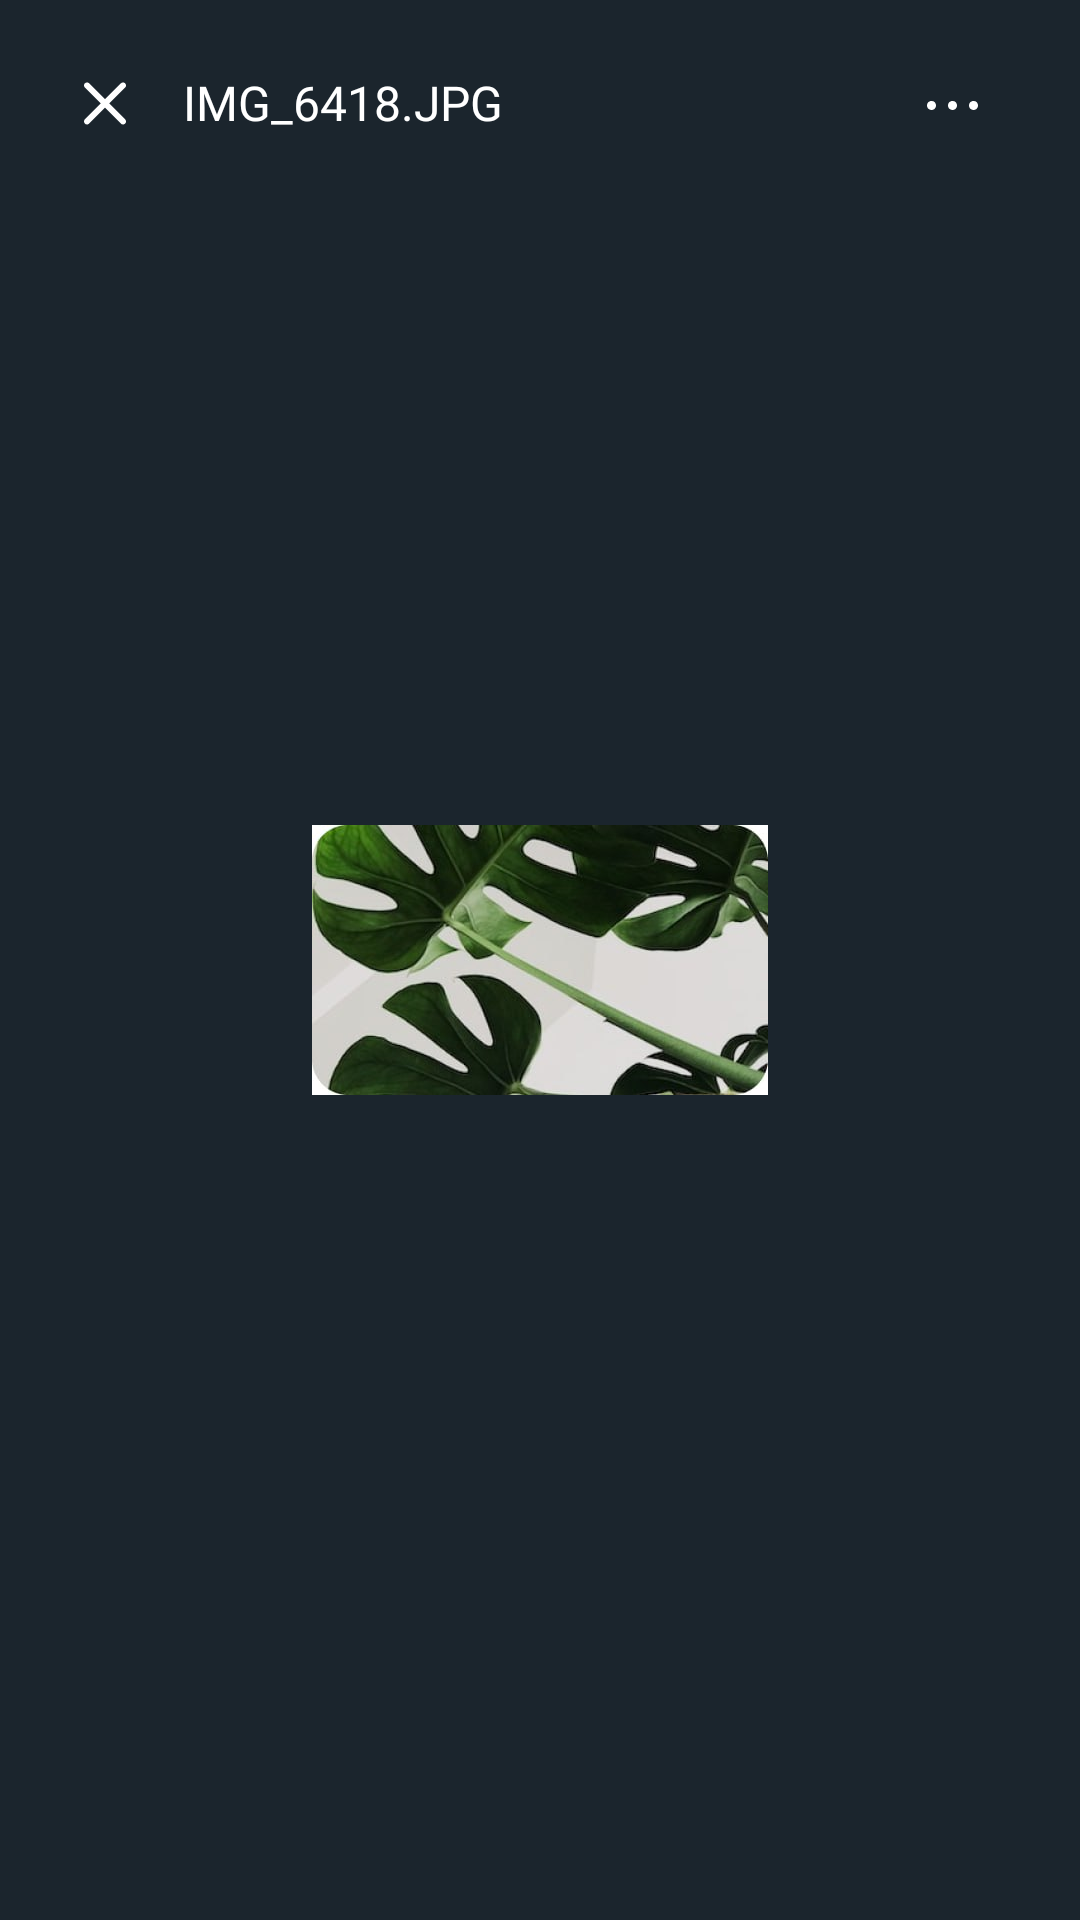

Named icons in this screenshot (1080 x 1920) and their bounding boxes, (x1, y1, x2, y2):
dot: (927, 101, 978, 110)
